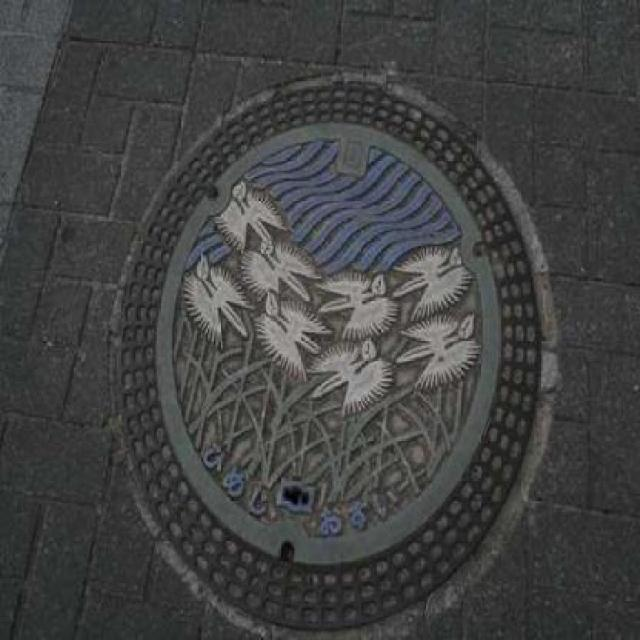Manhole: (93, 59, 570, 638)
